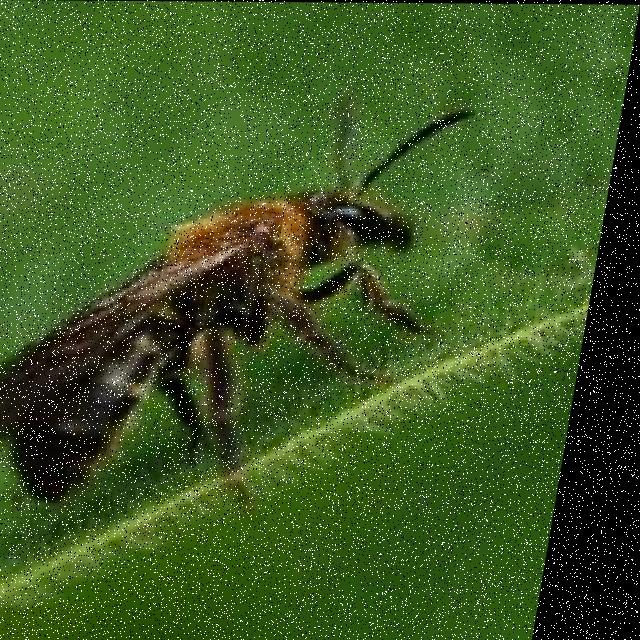Meliponula: (0, 66, 512, 513)
